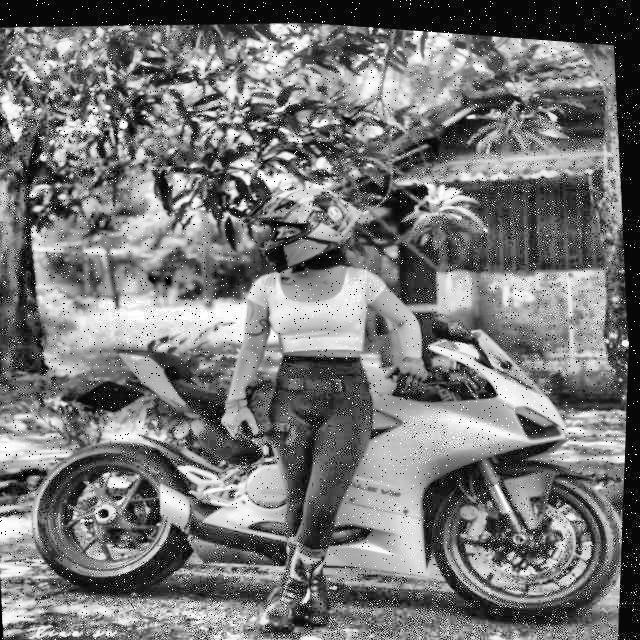Helmet: (234, 170, 373, 279)
